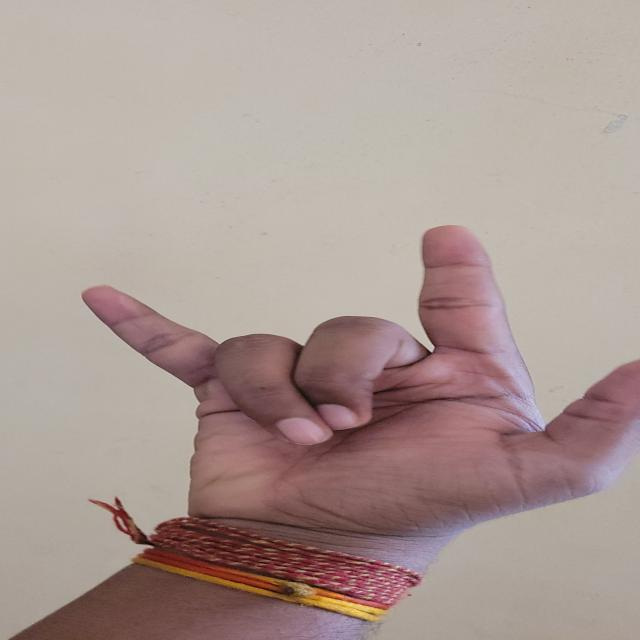i like you: (11, 204, 640, 581)
